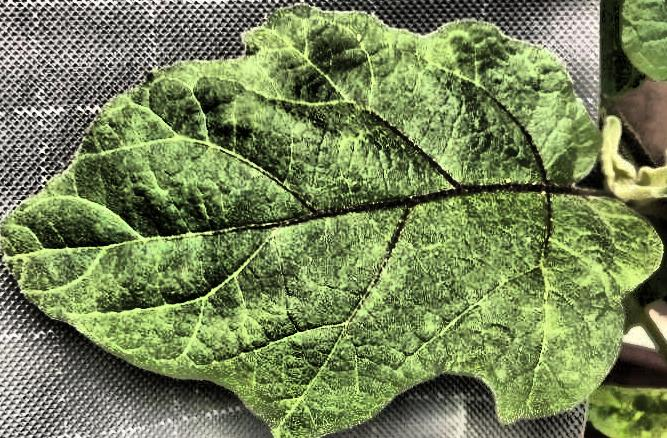HEALTHY: (1, 0, 667, 438)
